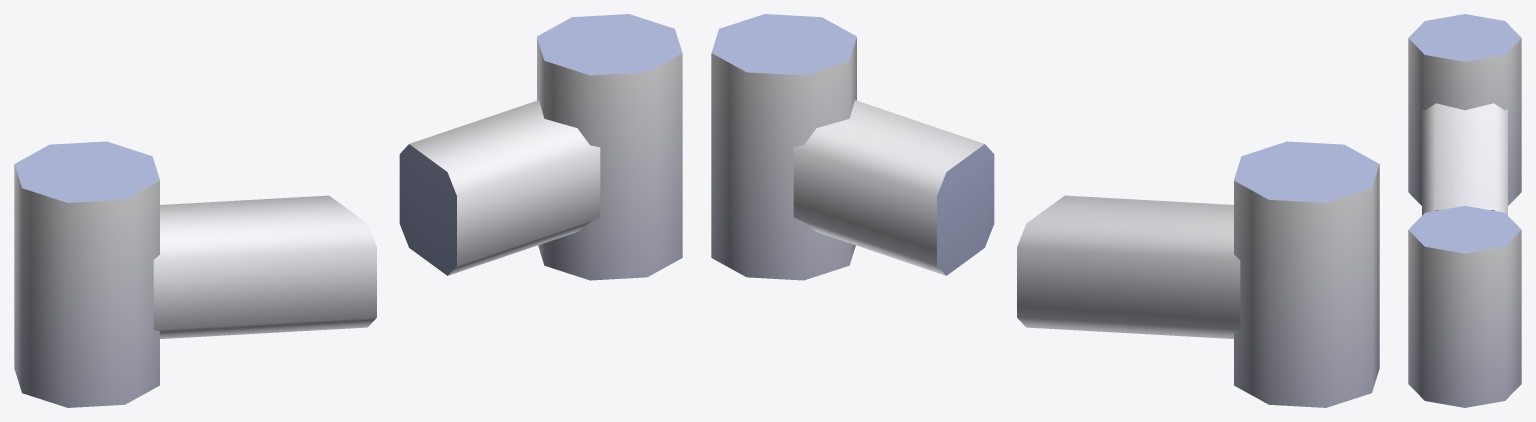
The model's file is fence-low-broken.glb.
3 views of the same model, side by side, from view 1: azimuth 30°, elevation 25°; view 2: azimuth 150°, elevation 25°; view 3: azimuth 270°, elevation 25° (orthographic). The views are drawn at different scales.
Visible parts, largest first — view 1: fence-low-broken; view 2: fence-low-broken; view 3: fence-low-broken.
Boxes of the visible parts, <box> form: fence-low-broken: <box>14,14,682,407</box>; fence-low-broken: <box>711,14,1379,407</box>; fence-low-broken: <box>1408,14,1521,407</box>.
Size of the model in its own units: 1 by 0.3 by 0.2.
